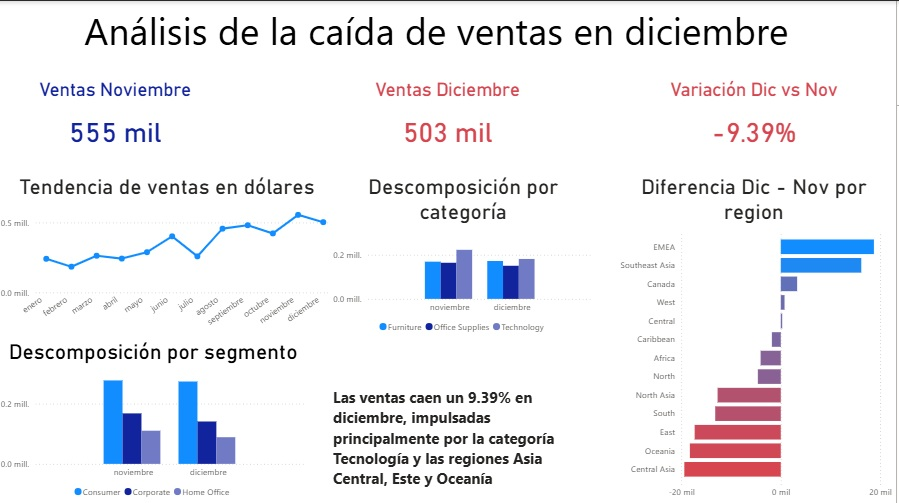

This screenshot's page, from the dashboard's own definition file:
{"tool":"powerbi","page":{"name":"Página 1","canvas":[1280,720],"ordinal":0},"visuals":[{"type":"card","title":"Ventas Diciembre","fields":{"Values":["datos 2014.Ventas Dic"]},"box":[491.2,110.3,300.8,115.7],"z":0},{"type":"textbox","box":[17.8,0,1215.6,99.7],"z":1000},{"type":"lineChart","title":"Tendencia de ventas en dólares","fields":{"Category":["datos 2014.order_date.Variación.Jerarquía de fechas.Mes"],"Y":["Sum(datos 2014.sales)"]},"box":[0,247.4,484.1,234.9],"z":2000},{"type":"clusteredColumnChart","title":"Descomposición por categoría","fields":{"Category":["datos 2014.order_date.Variación.Jerarquía de fechas.Mes"],"Y":["Sum(datos 2014.sales)"],"Series":["datos 2014.category"]},"box":[473.4,247.4,380.9,234.9],"z":3000},{"type":"clusteredColumnChart","title":"Descomposición por segmento","fields":{"Category":["datos 2014.order_date.Variación.Jerarquía de fechas.Mes"],"Y":["Sum(datos 2014.sales)"],"Series":["datos 2014.segment"]},"box":[0,482.3,444.9,234.9],"z":4000},{"type":"card","title":"Variación Dic vs Nov","fields":{"Values":["datos 2014.Variación Dic vs Nov"]},"box":[875.7,110.3,404,115.7],"z":5000},{"type":"card","title":"Ventas Noviembre","fields":{"Values":["datos 2014.Ventas Nov"]},"box":[17.8,110.3,300.8,115.7],"z":6000},{"type":"textbox","box":[473.4,544.6,380.9,172.6],"z":7000},{"type":"clusteredBarChart","title":"Diferencia Dic - Nov por region","fields":{"Y":["datos 2014.Diferencia Dic vs Nov"],"Category":["datos 2014.region"]},"box":[875.7,247.4,404,469.9],"z":8000}]}

Visuals, with their boxes in screenshot pixels (x1, y1, x2, y2), scaled from the page's 1280x720 canvas onto the 899x503 screenshot:
"Ventas Diciembre" card: x1=345, y1=77, x2=556, y2=158
textbox: x1=13, y1=0, x2=866, y2=70
"Tendencia de ventas en dólares" lineChart: x1=0, y1=173, x2=340, y2=337
"Descomposición por categoría" clusteredColumnChart: x1=332, y1=173, x2=600, y2=337
"Descomposición por segmento" clusteredColumnChart: x1=0, y1=337, x2=312, y2=501
"Variación Dic vs Nov" card: x1=615, y1=77, x2=898, y2=158
"Ventas Noviembre" card: x1=13, y1=77, x2=224, y2=158
textbox: x1=332, y1=380, x2=600, y2=501
"Diferencia Dic - Nov por region" clusteredBarChart: x1=615, y1=173, x2=898, y2=501
